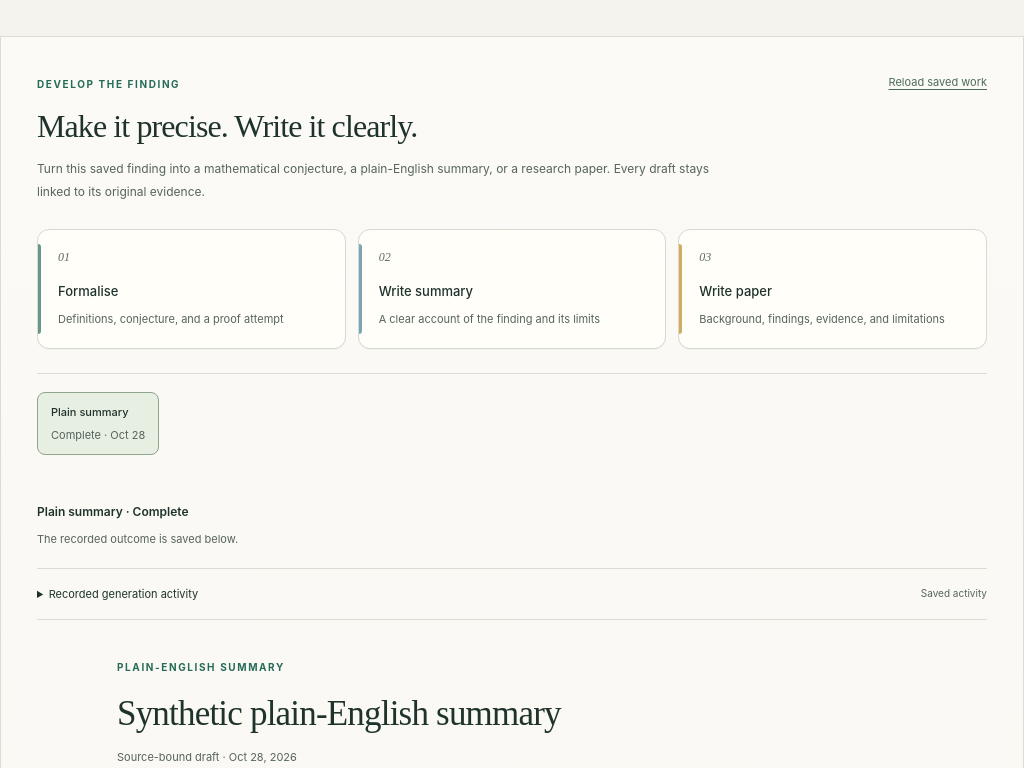
Test case: source-bound Formalise and Write workspace › clears saved preview and job history when authorization expires
The width and height of the screenshot is (1024, 768).
Expected: the heading "Synthetic plain-English summary" is shown, [117, 694, 561, 733]
Click the button "Reload saved work": (938, 82) [888, 69, 987, 95]
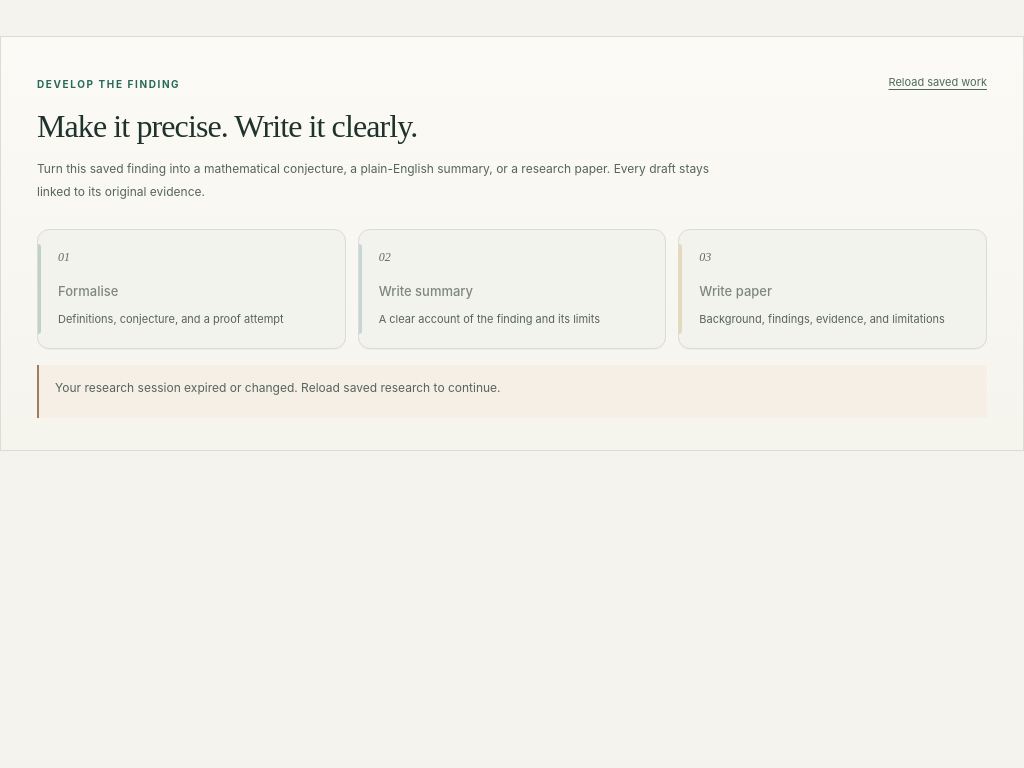
Expected: the message does not show "private-artifact-error", [37, 365, 987, 418]
Expected: the heading "Synthetic plain-English summary" is gone
Expected: the message shows "Your research session expired or changed", [55, 380, 501, 395]
